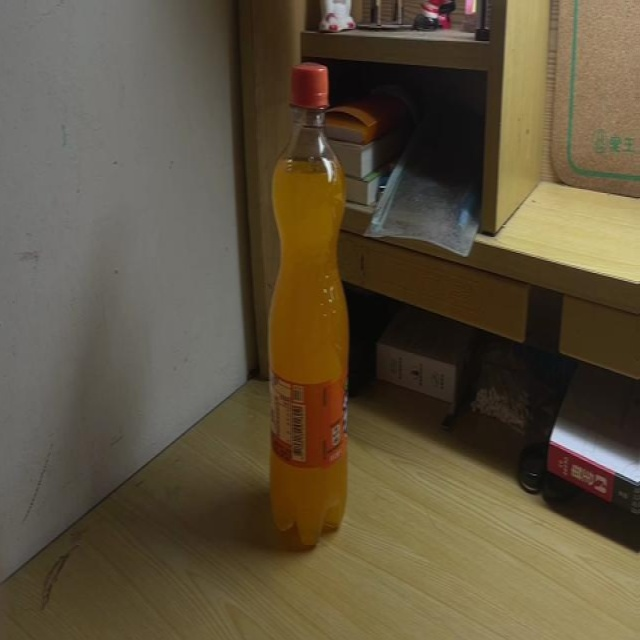Fanta: (270, 63, 352, 547)
